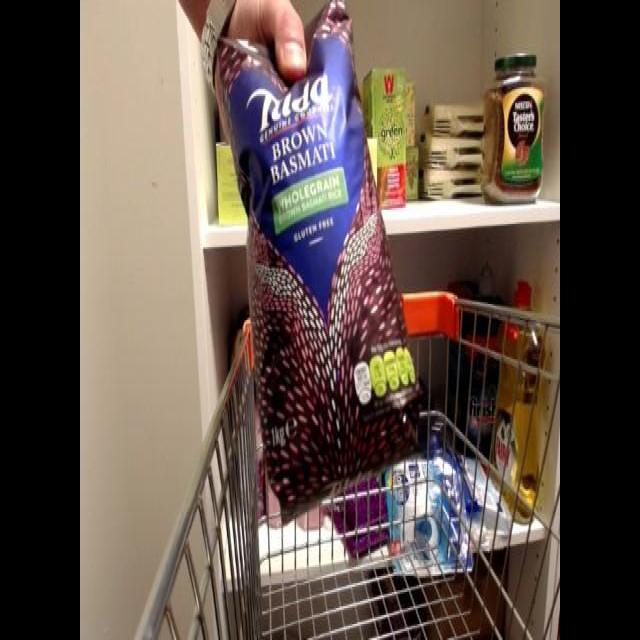Tida: (215, 1, 422, 532)
